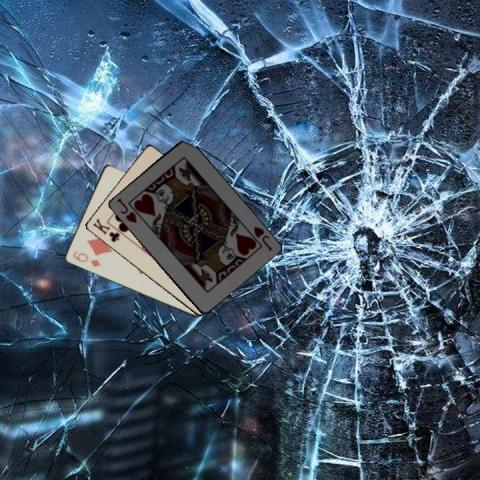6d: (69, 248, 102, 268)
Jh: (113, 194, 138, 224), (250, 223, 274, 252)
Kc: (90, 216, 121, 243)
